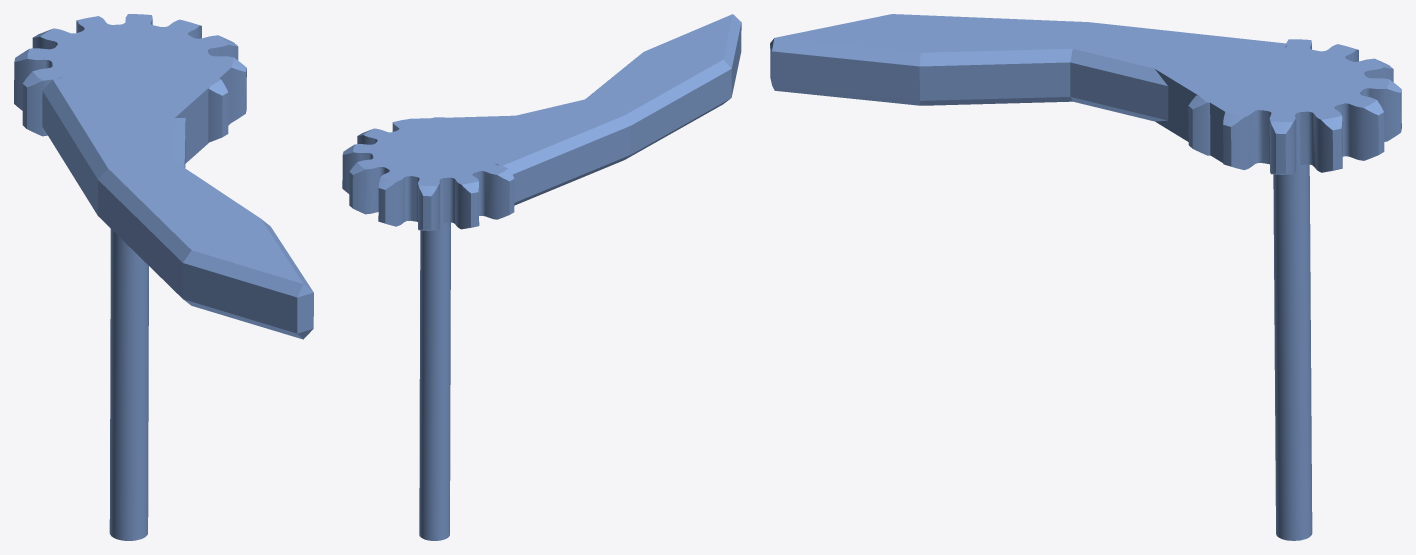
File: jaw_idler.glb
3 renders of one model, left to right at view 1: azimuth 30°, elevation 25°; view 2: azimuth 150°, elevation 25°; view 3: azimuth 270°, elevation 25°, orthographic. The views are drawn at different scales.
Visible parts, largest first — view 1: jaw_idler; view 2: jaw_idler; view 3: jaw_idler.
Part boxes in pixels (box(x1,y1,x2,y2)): jaw_idler: box(14, 14, 313, 540); jaw_idler: box(342, 14, 741, 540); jaw_idler: box(770, 14, 1401, 540).
Bounding box in the file's own units: 0.0195 × 0.0342 × 0.0433.
